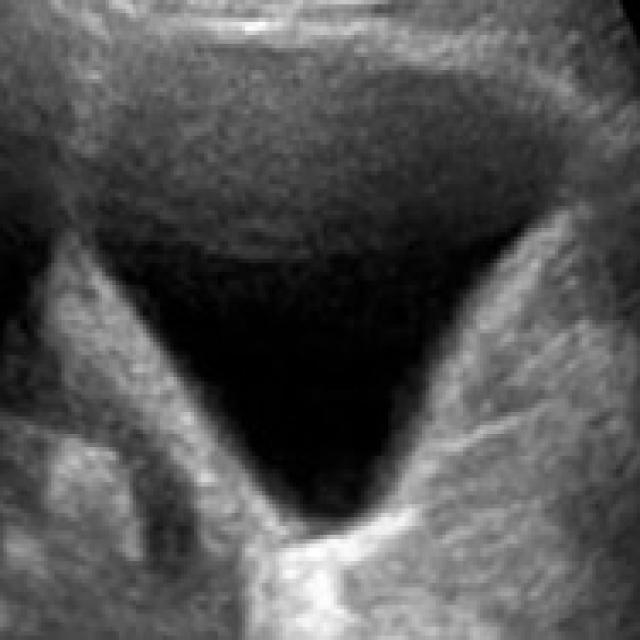bladder: (55, 9, 612, 597)
